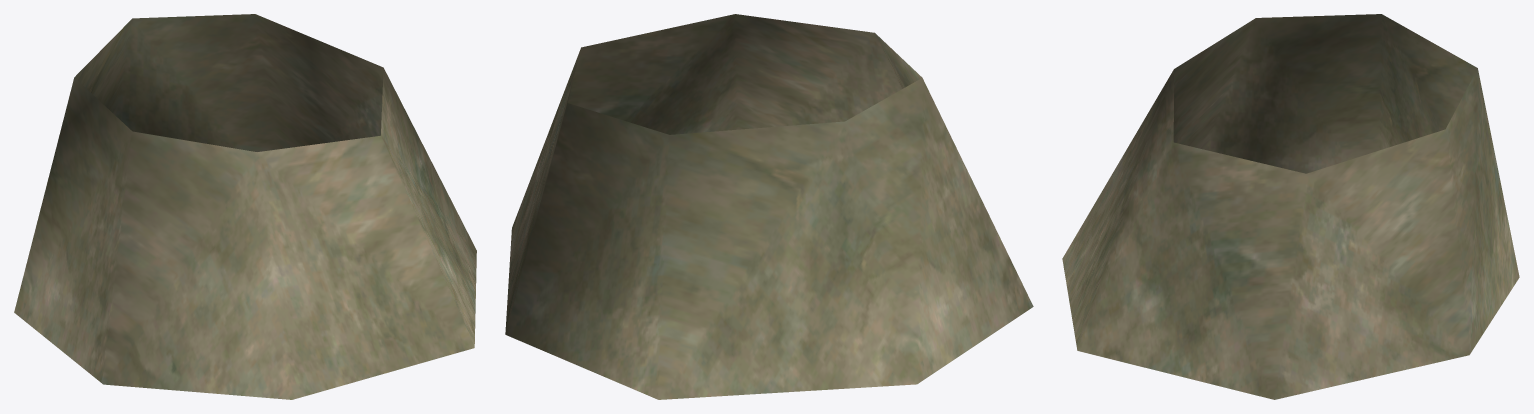
The model's file is EKH_JAIL_PS_JA_GR_OBJECT79.fbx.
3 views of the same model, side by side, from view 1: azimuth 30°, elevation 25°; view 2: azimuth 150°, elevation 25°; view 3: azimuth 270°, elevation 25° (orthographic). The views are drawn at different scales.
Visible parts, largest first — view 1: EKH_JAIL_PS_JA_GR_OBJECT79; view 2: EKH_JAIL_PS_JA_GR_OBJECT79; view 3: EKH_JAIL_PS_JA_GR_OBJECT79.
Boxes of the visible parts, x1,y1,x2,y2 form: EKH_JAIL_PS_JA_GR_OBJECT79: [14, 14, 476, 399]; EKH_JAIL_PS_JA_GR_OBJECT79: [505, 14, 1033, 399]; EKH_JAIL_PS_JA_GR_OBJECT79: [1062, 14, 1519, 399].
Size of the model in its own units: 22827 by 11430 by 21818.
1 material, 1 textured.
